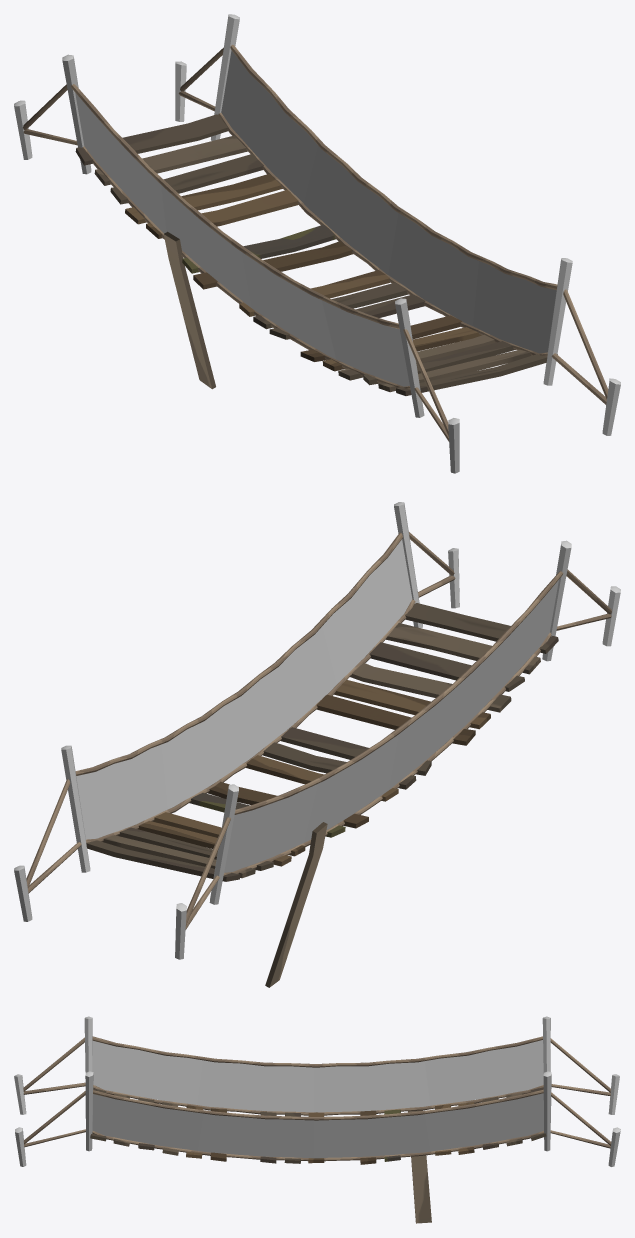
The model's file is SM_Bld_Ropebridge_Damaged_01.fbx.
3 renders of one model, top to bottom at view 1: azimuth 30°, elevation 25°; view 2: azimuth 150°, elevation 25°; view 3: azimuth 270°, elevation 25°, orthographic. The views are drawn at different scales.
Parts seen in each view (by area): view 1: SM_Bld_Ropebridge_Damaged_01; view 2: SM_Bld_Ropebridge_Damaged_01; view 3: SM_Bld_Ropebridge_Damaged_01.
Boxes of the visible parts, x1,y1,x2,y2 form: SM_Bld_Ropebridge_Damaged_01: [14, 14, 620, 473]; SM_Bld_Ropebridge_Damaged_01: [14, 502, 620, 987]; SM_Bld_Ropebridge_Damaged_01: [14, 1016, 620, 1223].
Bounding box in the file's own units: 258 × 383 × 1109.
